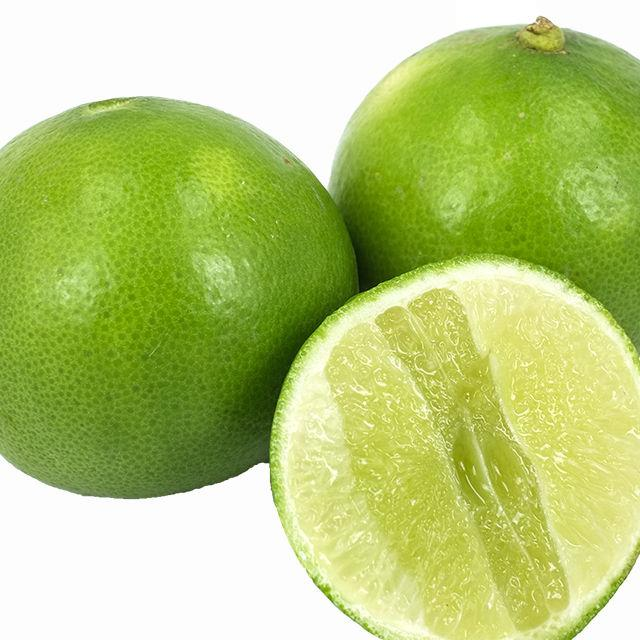lime: (0, 88, 368, 510), (254, 244, 640, 640), (330, 12, 640, 366)
